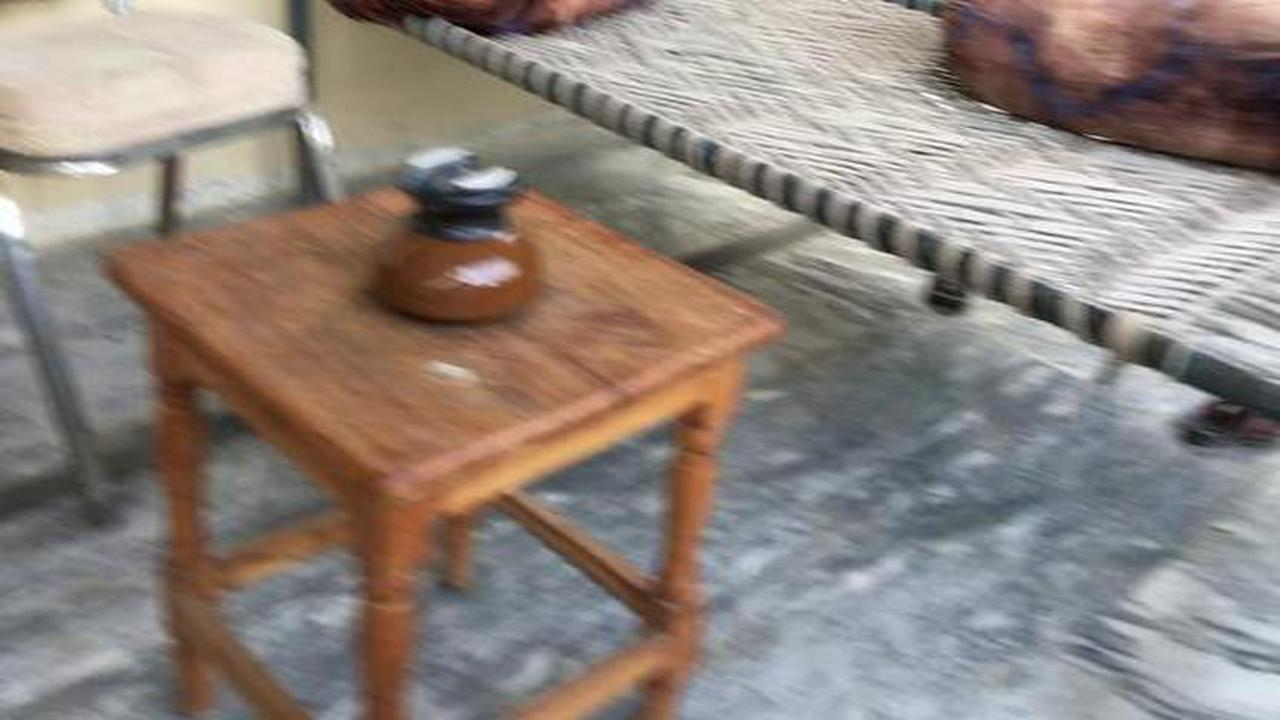insulator_pin: (342, 134, 570, 335)
